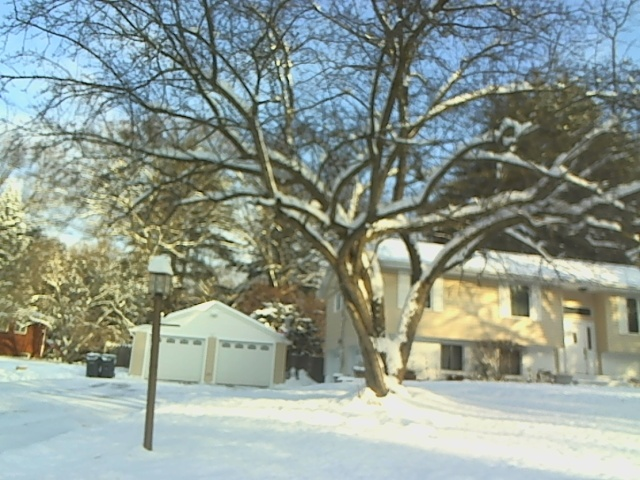Unploughed: (13, 374, 199, 425)
